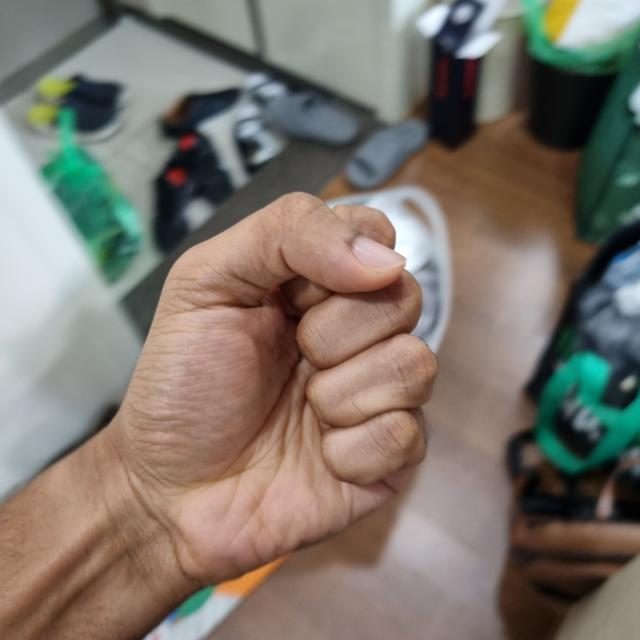Rock: (107, 187, 431, 581)
